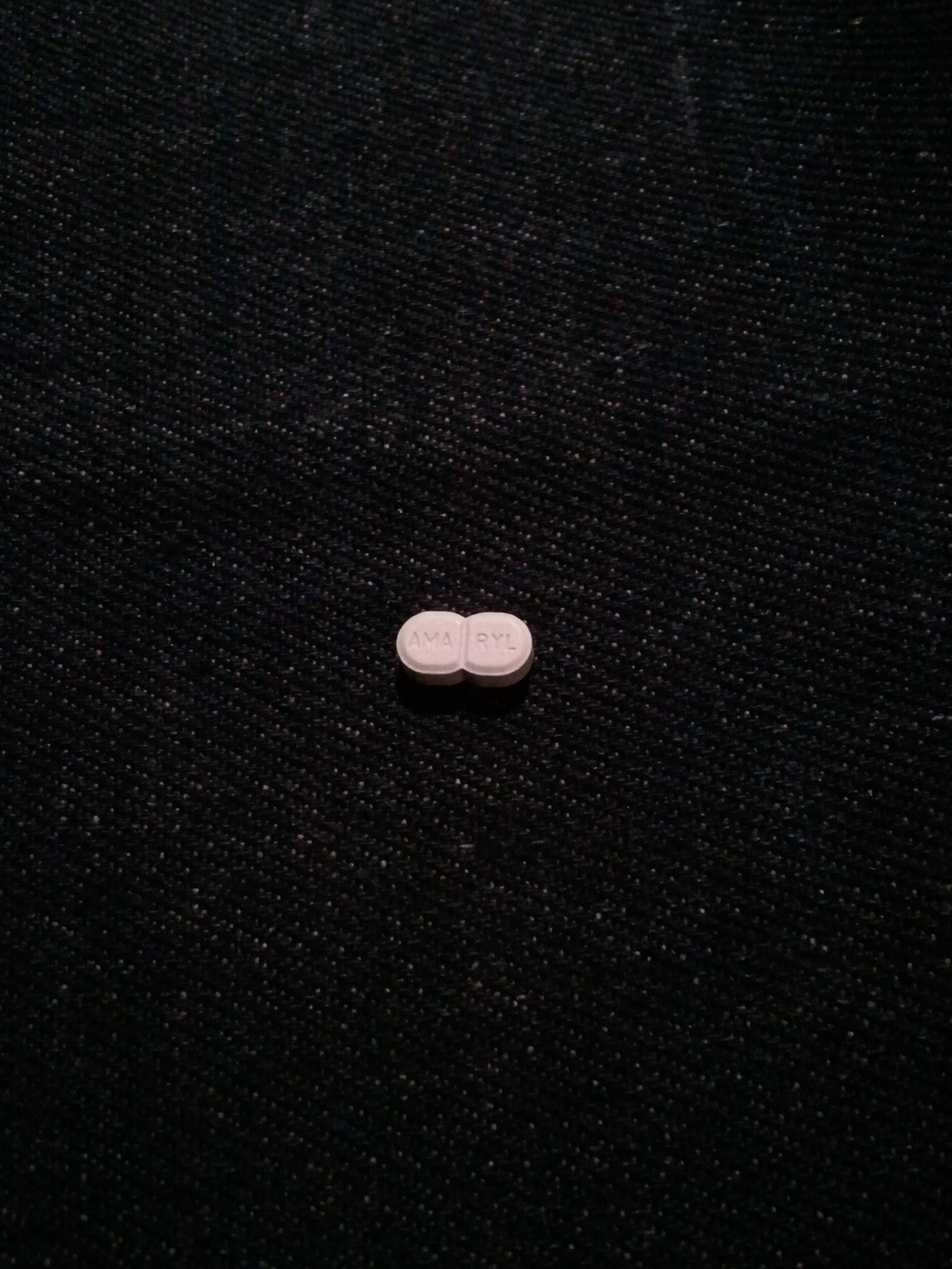Pill: (355, 580, 574, 704)
